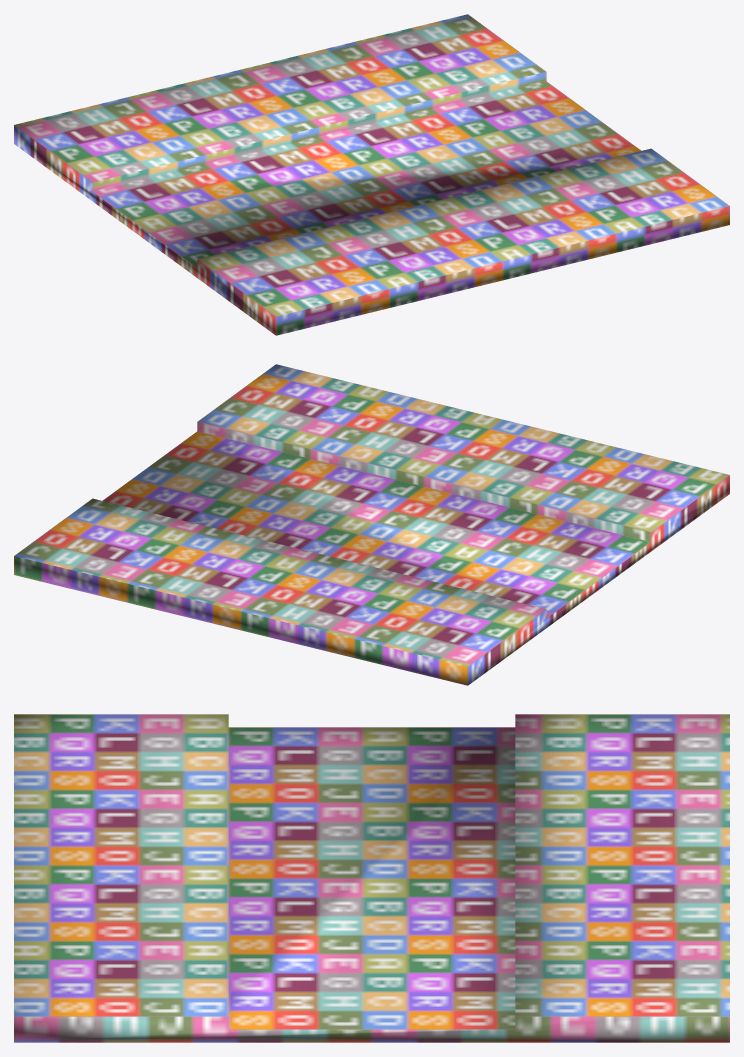
The model's file is street.obj.
3 renders of one model, top to bottom at view 1: azimuth 30°, elevation 25°; view 2: azimuth 150°, elevation 25°; view 3: azimuth 270°, elevation 25°, orthographic. The views are drawn at different scales.
Parts seen in each view (by area): view 1: grid5; view 2: grid5; view 3: grid5.
Part boxes in pixels (x1,y1,x2,y2): grid5: [14, 14, 729, 335]; grid5: [14, 364, 729, 685]; grid5: [14, 714, 729, 1042].
Size of the model in its own units: 5 by 0.2 by 5.
1 material, 1 textured.
